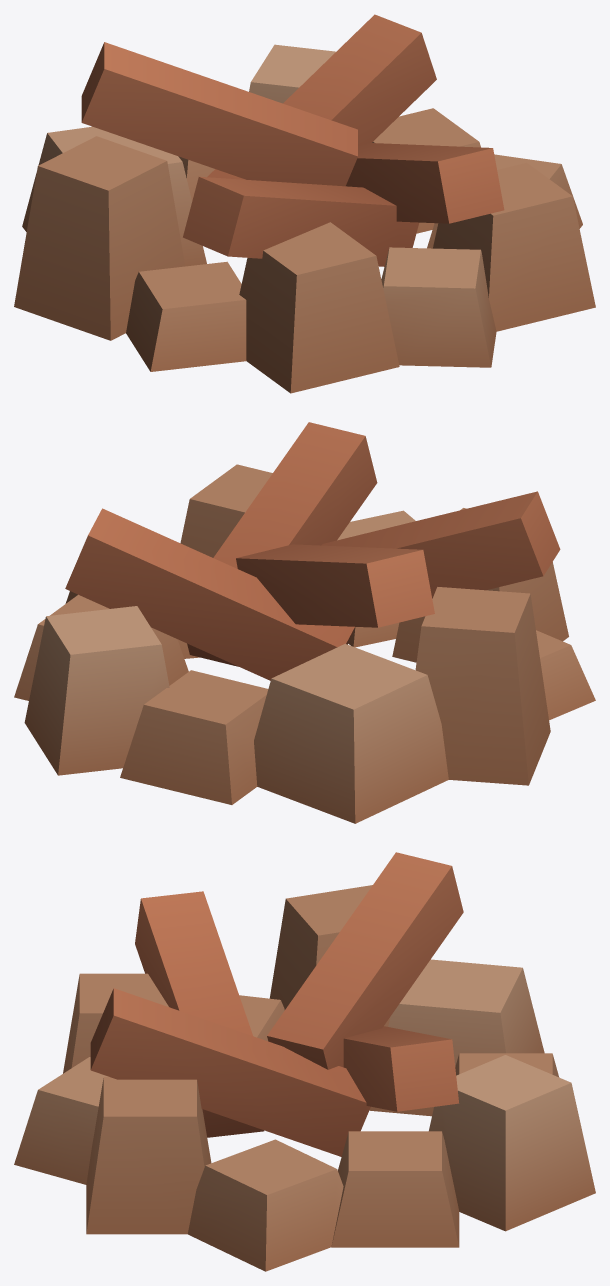
File: survival-campfire-pit.glb
3 renders of one model, top to bottom at view 1: azimuth 30°, elevation 25°; view 2: azimuth 150°, elevation 25°; view 3: azimuth 270°, elevation 25°, orthographic. The views are drawn at different scales.
Parts seen in each view (by area): view 1: survival-campfire-pit; view 2: survival-campfire-pit; view 3: survival-campfire-pit.
Part boxes in pixels (x1,y1,x2,y2): survival-campfire-pit: [14, 14, 595, 393]; survival-campfire-pit: [14, 422, 595, 823]; survival-campfire-pit: [14, 852, 595, 1271].
Bounding box in the file's own units: 0.2778 × 0.1091 × 0.2692.
